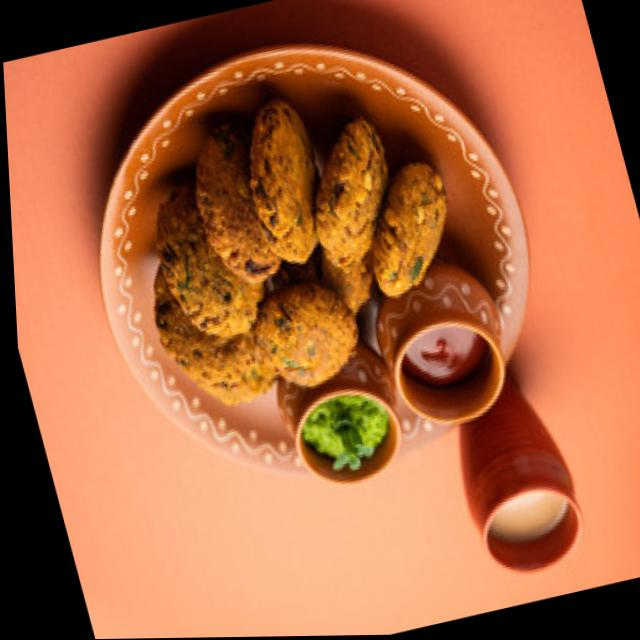CURD: (493, 492, 567, 543)
GREEN CHUTNEY: (308, 397, 383, 467)
RED CHUTNEY: (402, 328, 485, 379)
SAMBAR: (148, 99, 445, 404)
